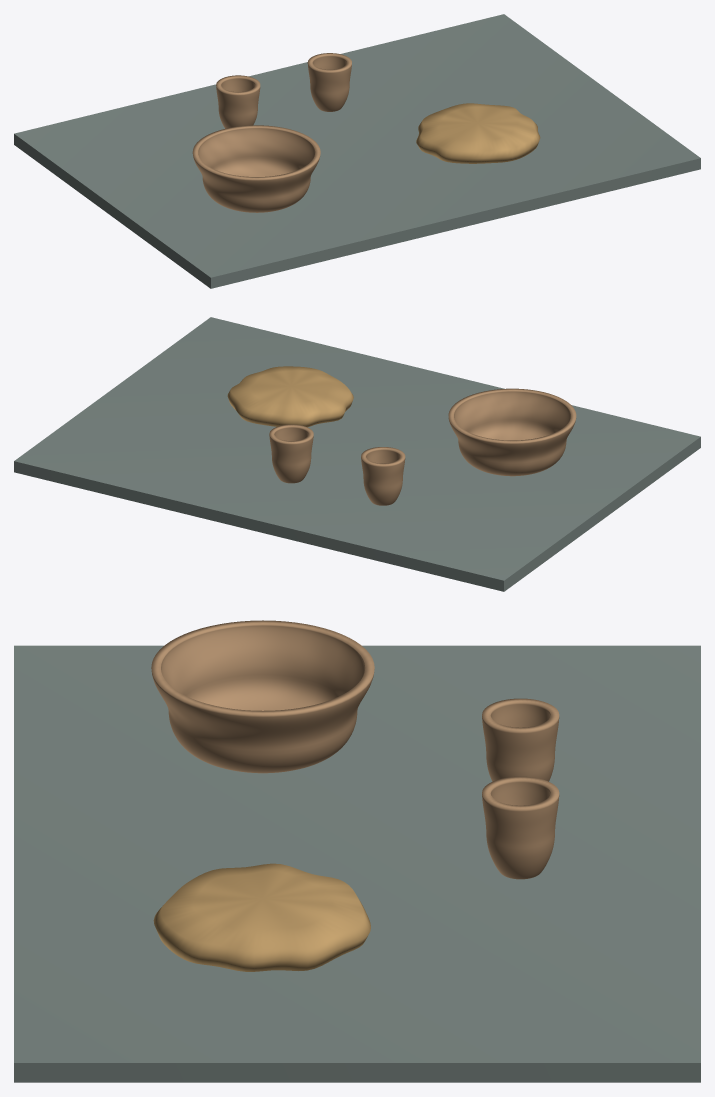
Rendered from church-table.glb.
3 renders of one model, top to bottom at view 1: azimuth 30°, elevation 25°; view 2: azimuth 150°, elevation 25°; view 3: azimuth 270°, elevation 25°, orthographic. The views are drawn at different scales.
Parts seen in each view (by area): view 1: church-table-church-modern-continuous-neutral-support, church-table-church-original-ordinary-matte-vessels, church-table-church-original-whole-ordinary-bread, church-table-church-original-ordinary-matte-vessels.002, church-table-church-original-ordinary-matte-vessels.001; view 2: church-table-church-modern-continuous-neutral-support, church-table-church-original-ordinary-matte-vessels, church-table-church-original-whole-ordinary-bread, church-table-church-original-ordinary-matte-vessels.002, church-table-church-original-ordinary-matte-vessels.001; view 3: church-table-church-modern-continuous-neutral-support, church-table-church-original-ordinary-matte-vessels, church-table-church-original-whole-ordinary-bread, church-table-church-original-ordinary-matte-vessels.002, church-table-church-original-ordinary-matte-vessels.001.
Part boxes in pixels (x1,y1,x2,y2): church-table-church-modern-continuous-neutral-support: (14,14,700,288); church-table-church-original-ordinary-matte-vessels: (192,125,320,212); church-table-church-original-whole-ordinary-bread: (416,103,540,163); church-table-church-original-ordinary-matte-vessels.002: (307,53,351,111); church-table-church-original-ordinary-matte-vessels.001: (216,75,260,128); church-table-church-modern-continuous-neutral-support: (14,317,700,591); church-table-church-original-ordinary-matte-vessels: (448,388,576,476); church-table-church-original-whole-ordinary-bread: (227,366,353,427); church-table-church-original-ordinary-matte-vessels.002: (269,424,313,483); church-table-church-original-ordinary-matte-vessels.001: (361,447,405,505); church-table-church-modern-continuous-neutral-support: (14,645,700,1082); church-table-church-original-ordinary-matte-vessels: (151,620,374,773); church-table-church-original-whole-ordinary-bread: (153,863,370,971); church-table-church-original-ordinary-matte-vessels.002: (482,776,559,879); church-table-church-original-ordinary-matte-vessels.001: (482,698,559,781).
Size of the model in its own units: 1.15 by 0.125 by 0.8.
